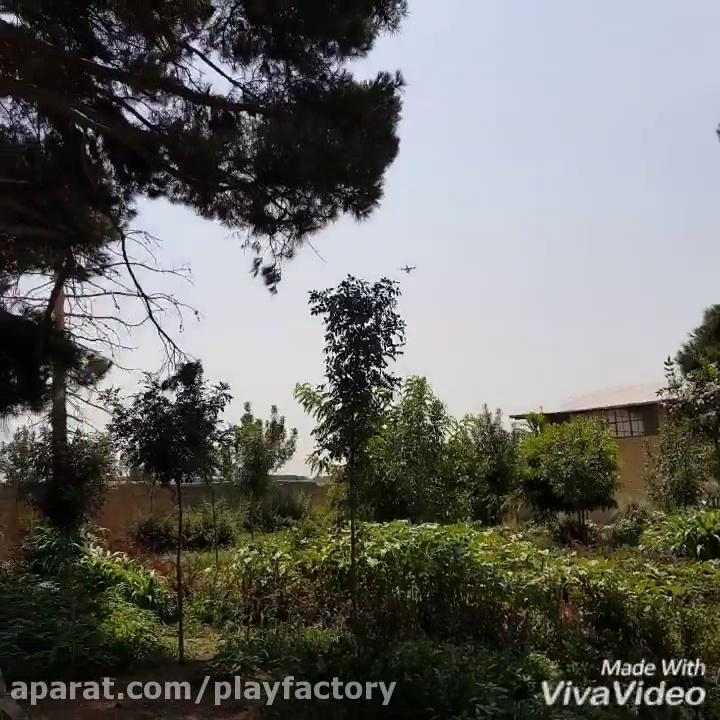drone: (392, 259, 419, 277)
